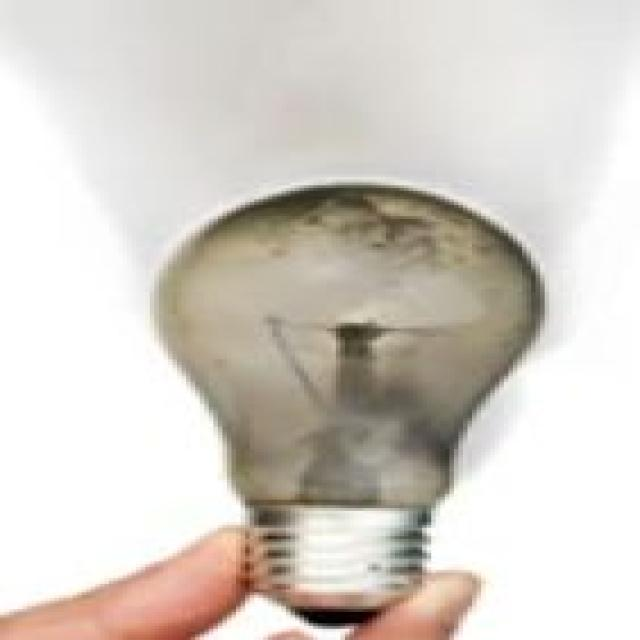electronic: (145, 177, 545, 626)
